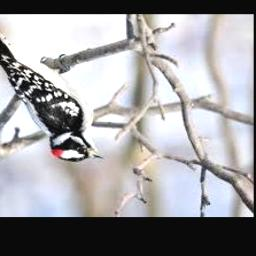Woodpecker: (0, 24, 107, 162)
